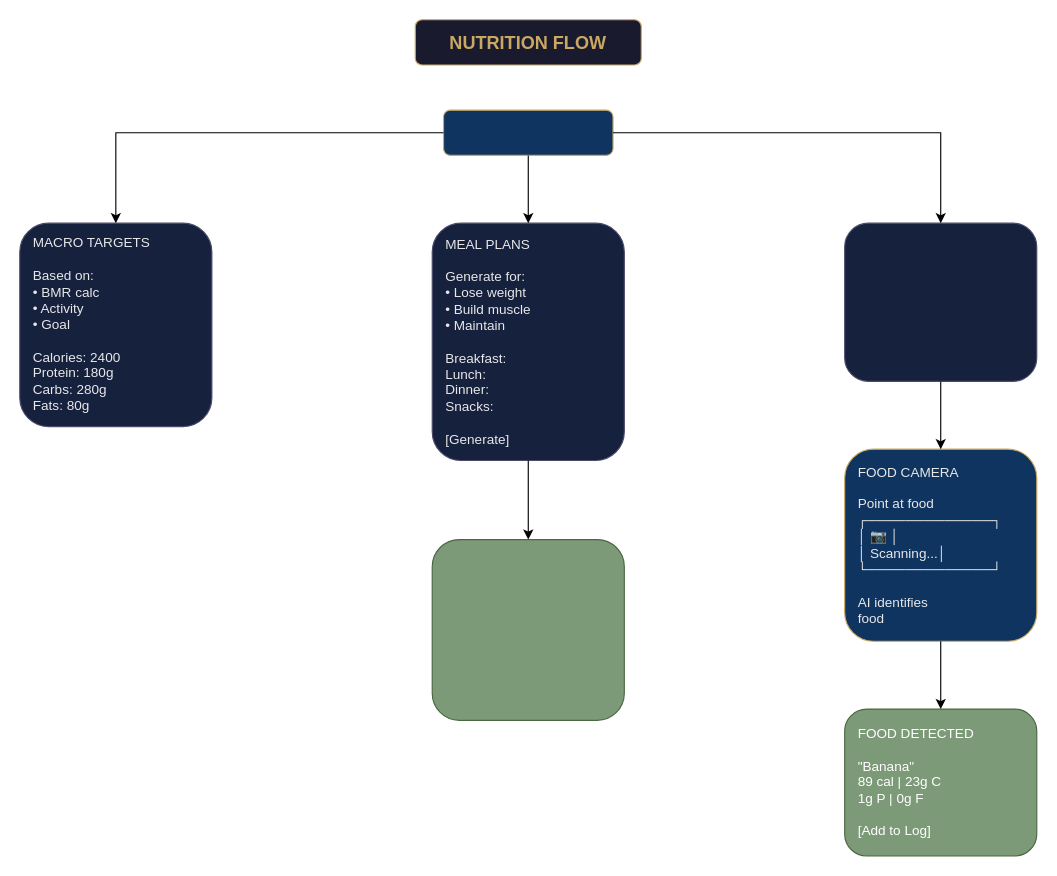
Image size: 1057x876. Some labels were removed from this diagram. Here are the shapes that lost their labels. From the top down, the centre of each, then its label:
(x=527, y=132): NUTRITION SCREEN
(x=940, y=301): FOOD SEARCH • Search foods • View macros • Add to log [📷 Scan Food]
(x=527, y=629): MEAL PLAN READY Breakfast: • Oatmeal • Eggs • Banana = 450 cal [Save Plan]
